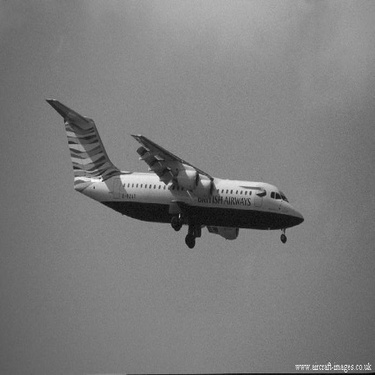airplane: (34, 86, 318, 254)
